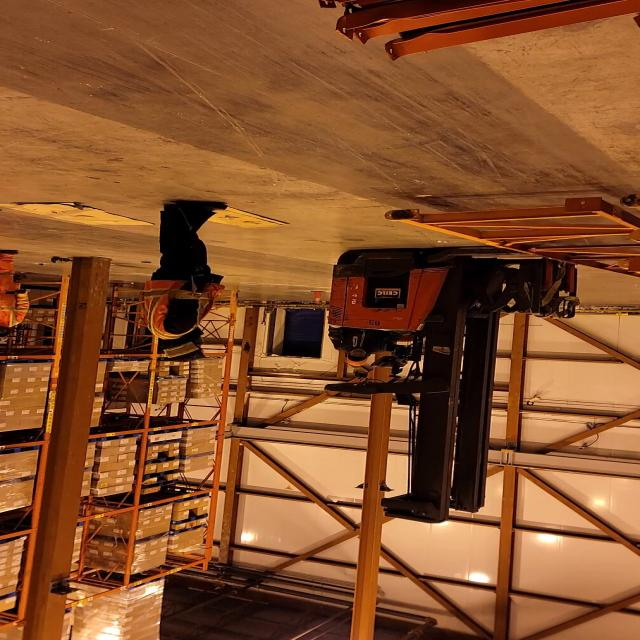forklift: (319, 246, 584, 514)
human: (136, 199, 237, 364), (324, 270, 416, 368), (0, 247, 36, 340)
objectofinterest: (379, 195, 640, 281), (0, 198, 156, 228), (154, 199, 294, 230)
